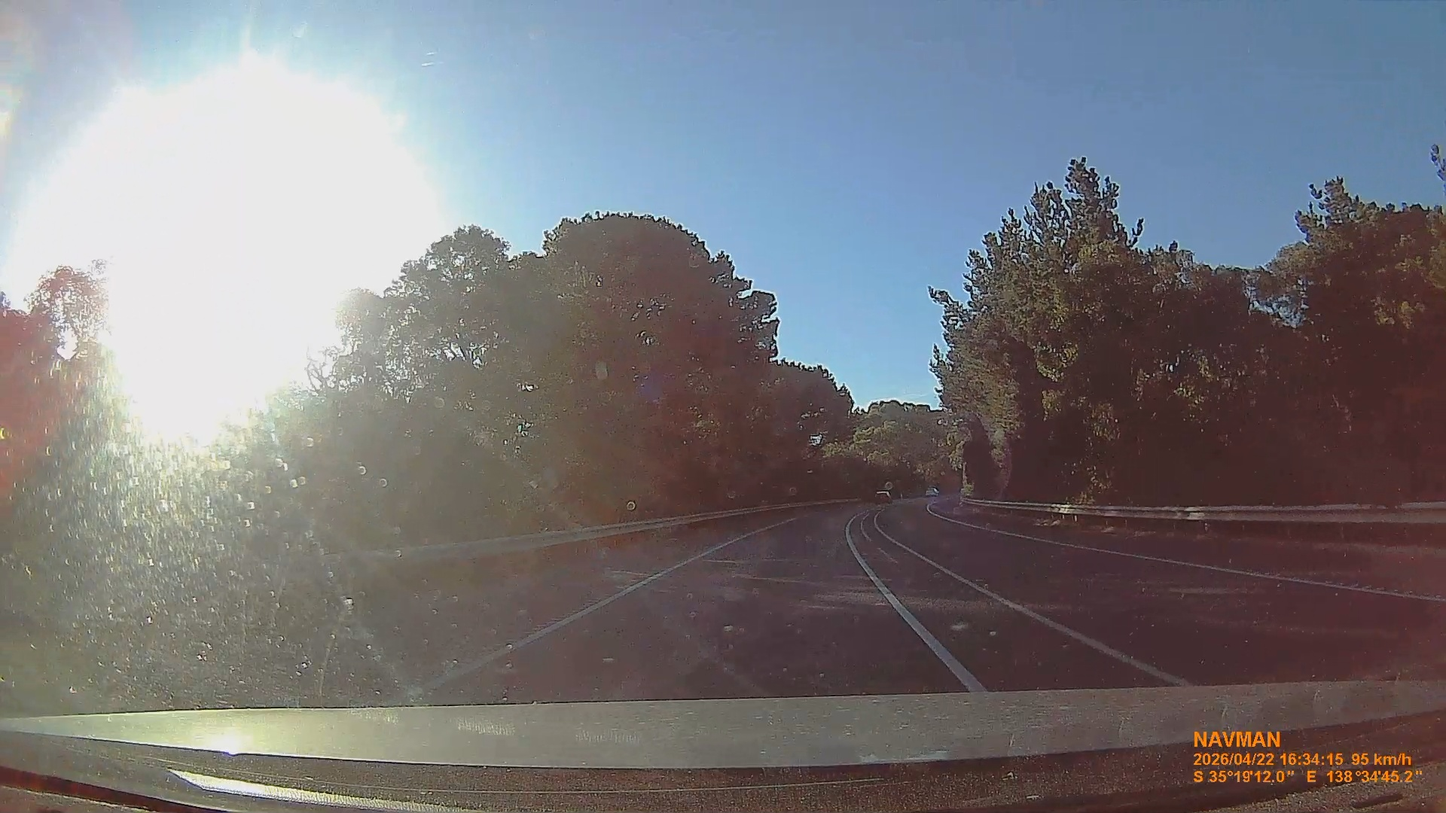road barriers: (355, 499, 859, 561), (943, 495, 1443, 530)
